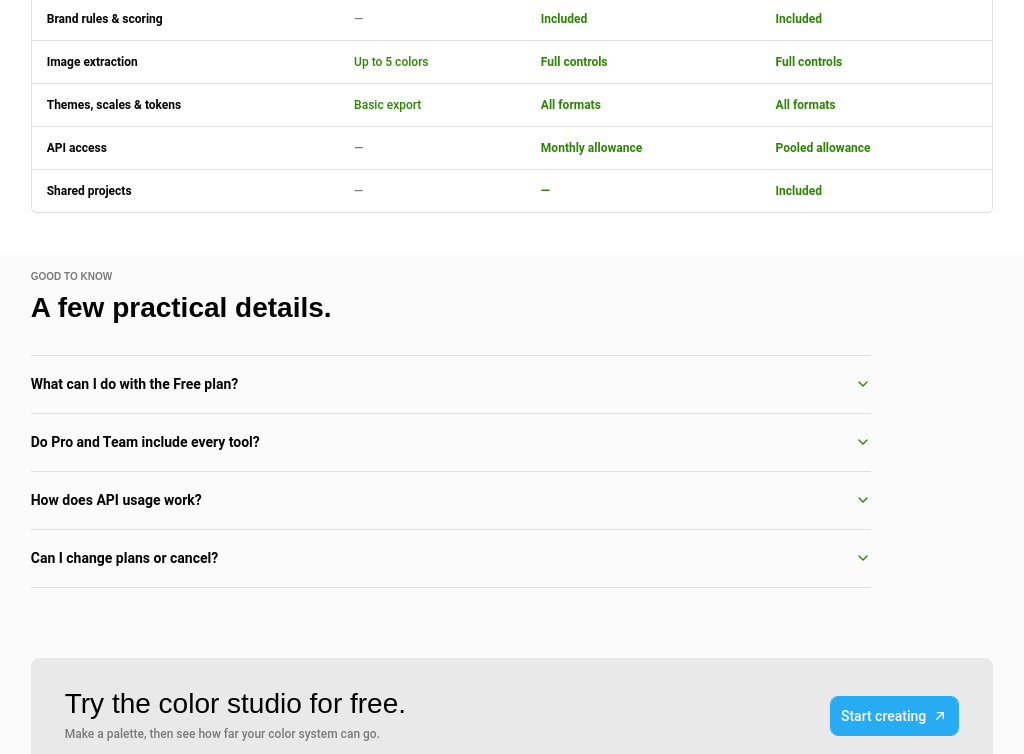
marketing pricing › expands and collapses the marketing FAQ with independent accordion items
(page scrolled)
Click the button "What can I do with the Free plan?".
click(134, 384)  # box [31,356,871,412]
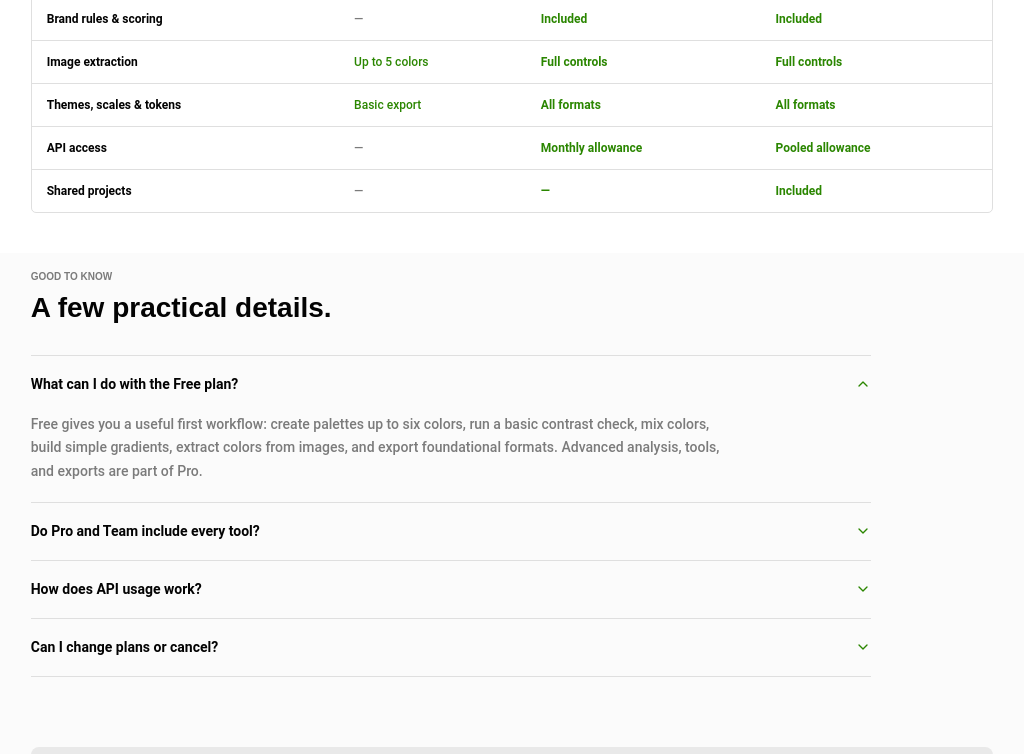
Result: the button "What can I do with the Free plan?" is expanded at [31,356,871,412]
Result: the text "Free gives you a useful first workflow" is shown at [31,416,719,479]
Click the button "Do Pro and Team include every tool?".
click(145, 531)  # box [31,502,871,560]
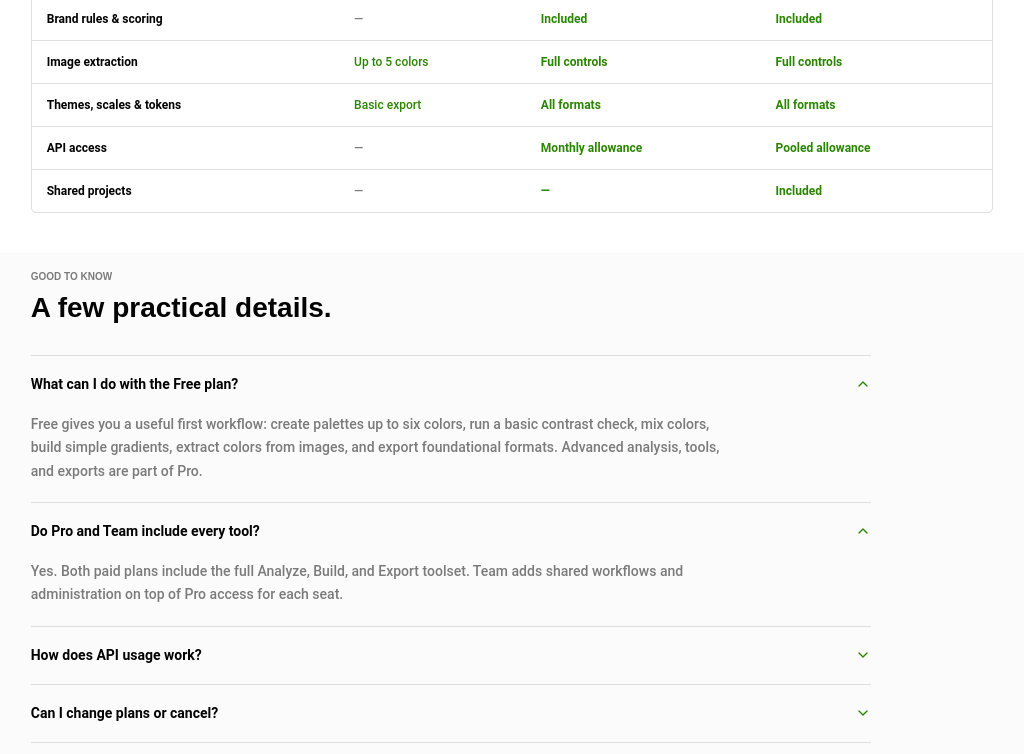
Result: the button "What can I do with the Free plan?" is expanded
Result: the button "Do Pro and Team include every tool?" is expanded at [31,502,871,560]
Click the button "What can I do with the Free plan?".
click(134, 384)  # box [31,356,871,412]
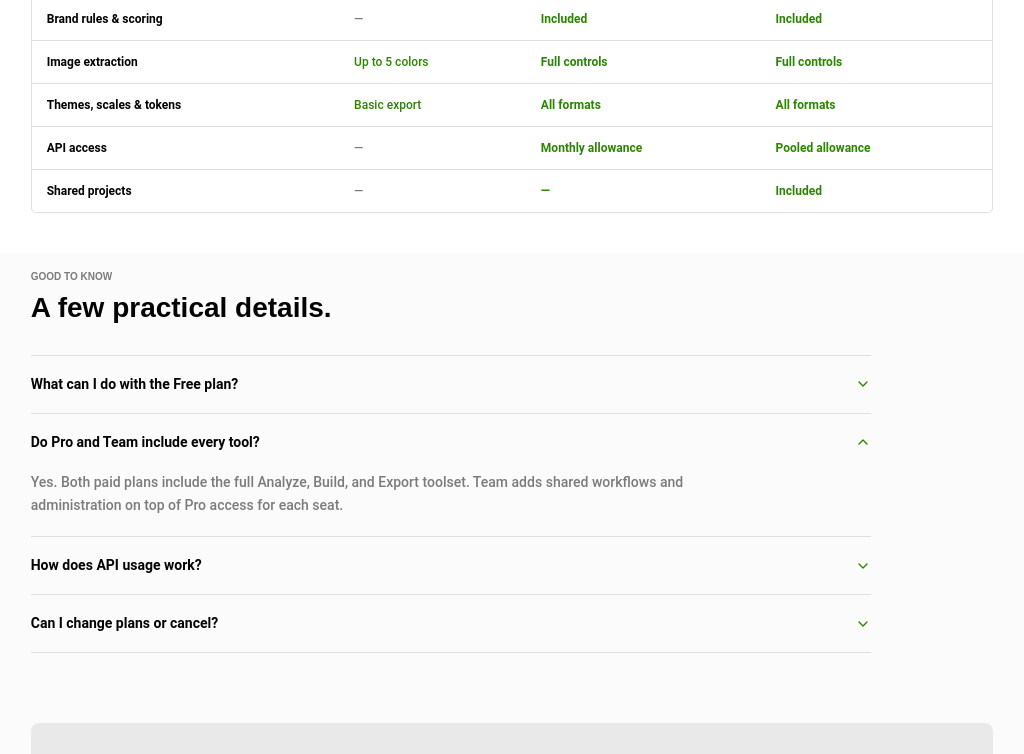
Result: the button "Do Pro and Team include every tool?" is expanded at [31,414,871,470]
Result: the button "What can I do with the Free plan?" is collapsed at [31,356,871,412]
Result: the text "Free gives you a useful first workflow" is gone
